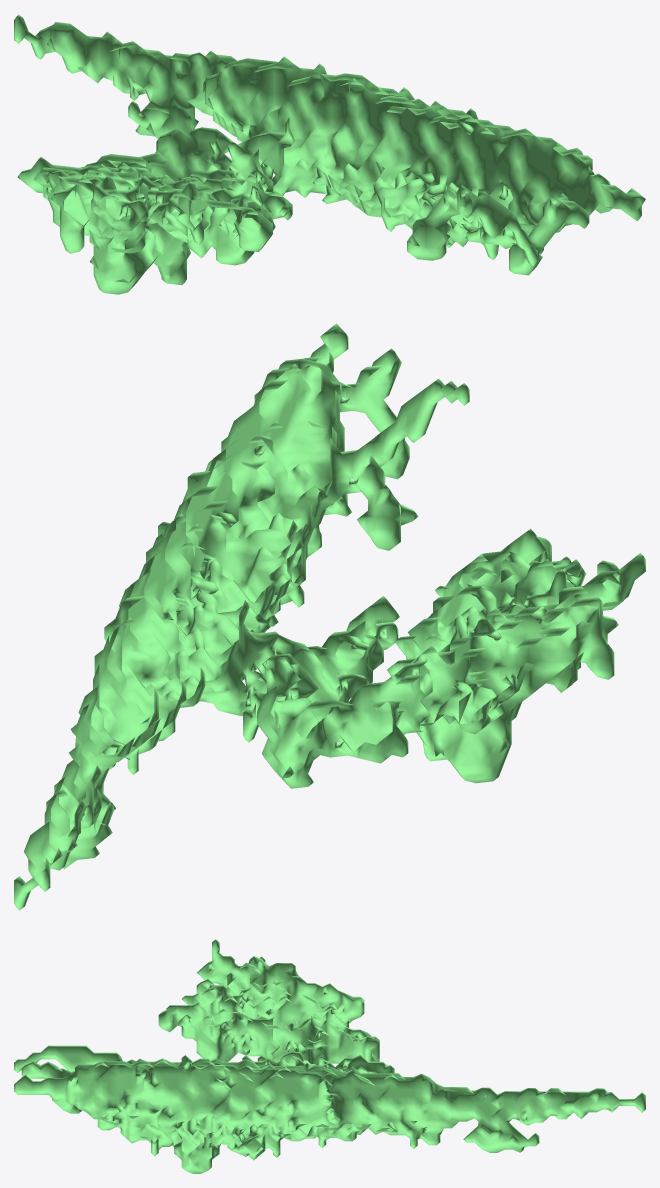
The model's file is osteocyte_13.glb.
3 views of the same model, one above another, from view 1: azimuth 30°, elevation 25°; view 2: azimuth 150°, elevation 25°; view 3: azimuth 270°, elevation 25° (orthographic). The views are drawn at different scales.
Parts seen in each view (by area): view 1: osteocyte_13; view 2: osteocyte_13; view 3: osteocyte_13.
Part boxes in pixels (bbox=[...]): osteocyte_13: bbox=[14, 14, 645, 294]; osteocyte_13: bbox=[14, 323, 645, 910]; osteocyte_13: bbox=[14, 939, 645, 1173].
Bounding box in the file's own units: 21.01 × 8.05 × 37.11.
